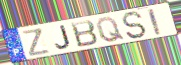B: (69, 19, 100, 49)
I: (146, 7, 163, 36)
J: (54, 24, 72, 50)
Q: (95, 16, 127, 44)
S: (120, 10, 149, 40)
Z: (21, 27, 52, 58)
